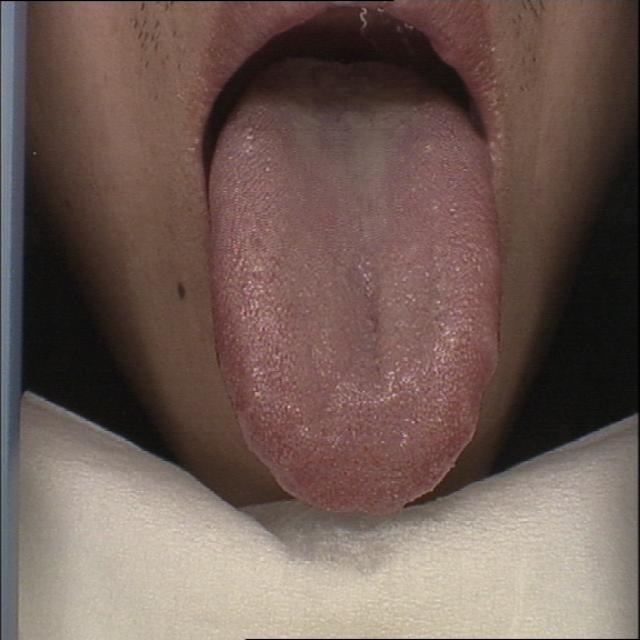tongue: (208, 99, 506, 522)
